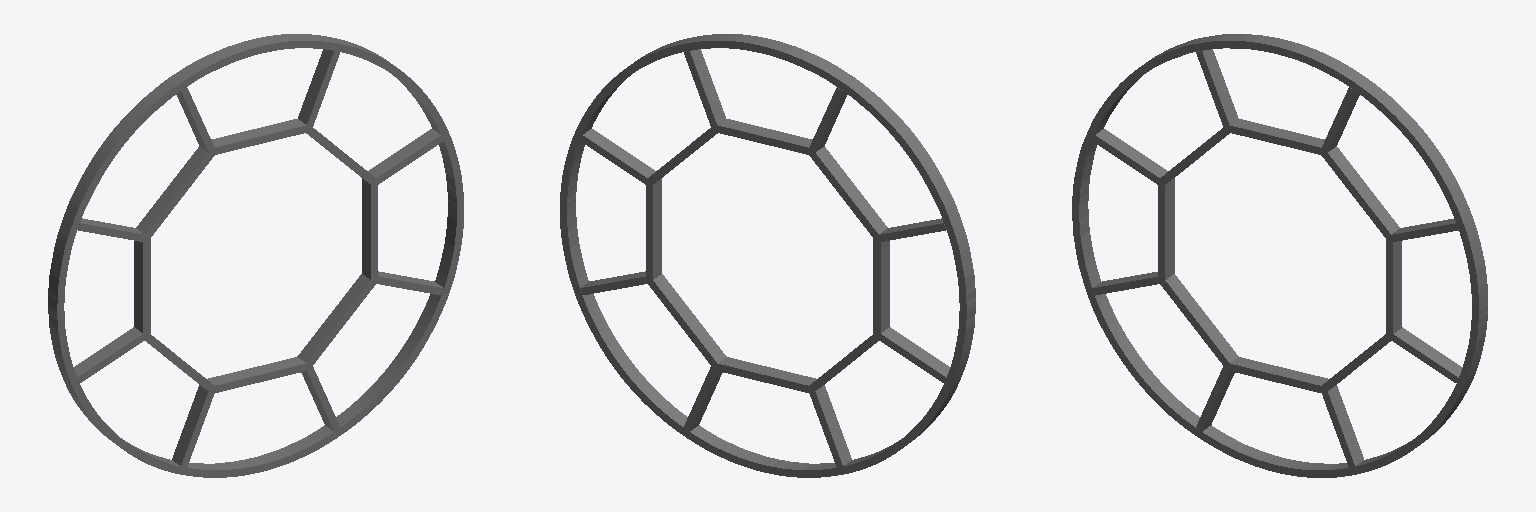
Rendered from maskhd.obj.
3 views of the same model, side by side, from view 1: azimuth 30°, elevation 25°; view 2: azimuth 150°, elevation 25°; view 3: azimuth 330°, elevation 25° (orthographic).
Visible parts, largest first — view 1: Layer 1; view 2: Layer 1; view 3: Layer 1.
Boxes of the visible parts, x1=… form: Layer 1: x1=48, y1=34, x2=463, y2=477; Layer 1: x1=560, y1=34, x2=975, y2=477; Layer 1: x1=1072, y1=34, x2=1487, y2=477.
Size of the model in its own units: 2500 by 2499 by 98.01.